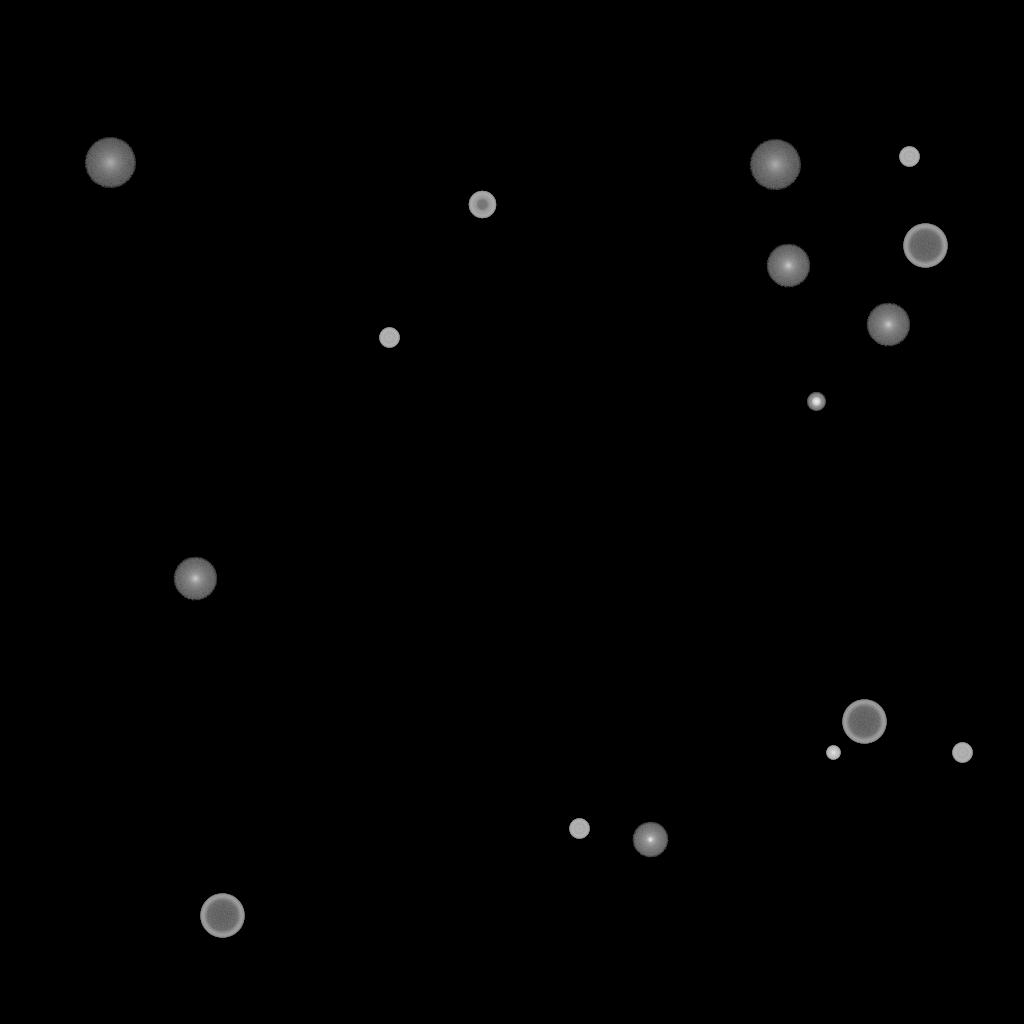depth:-20: (807, 393, 825, 411)
depth:-30: (826, 746, 840, 760)
depth:-40: (899, 147, 919, 167), (569, 819, 589, 839), (952, 743, 972, 763), (379, 328, 399, 348)
depth:-50: (468, 191, 496, 219)
depth:-70: (903, 224, 947, 268), (200, 894, 244, 938), (842, 700, 886, 744)
depth:0: (632, 822, 668, 858)
depth:10: (766, 244, 810, 288), (173, 557, 217, 601), (866, 303, 910, 347)
depth:20: (84, 138, 136, 188), (749, 140, 801, 190)
